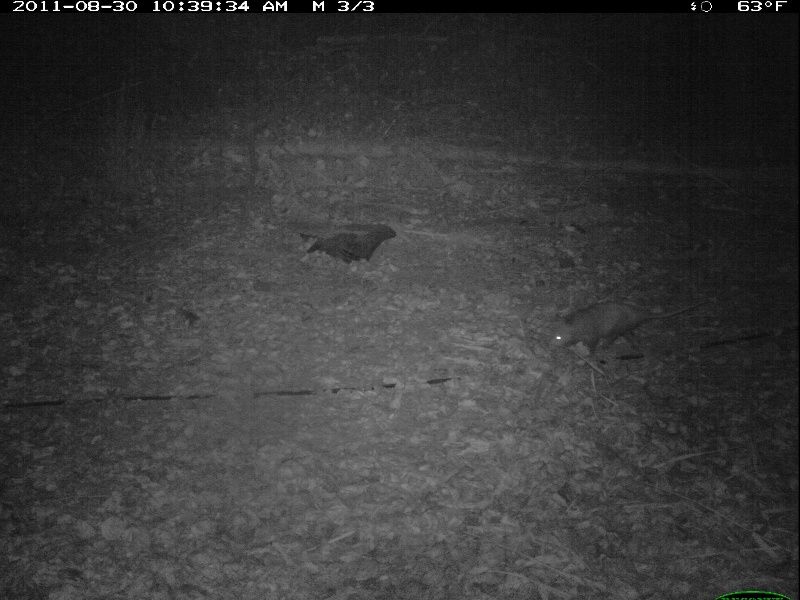opossum: (545, 301, 712, 355)
